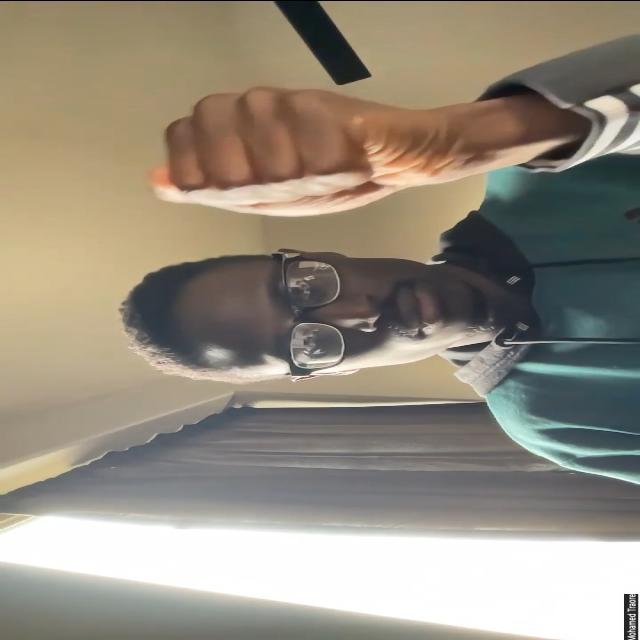Rock: (145, 86, 459, 218)
